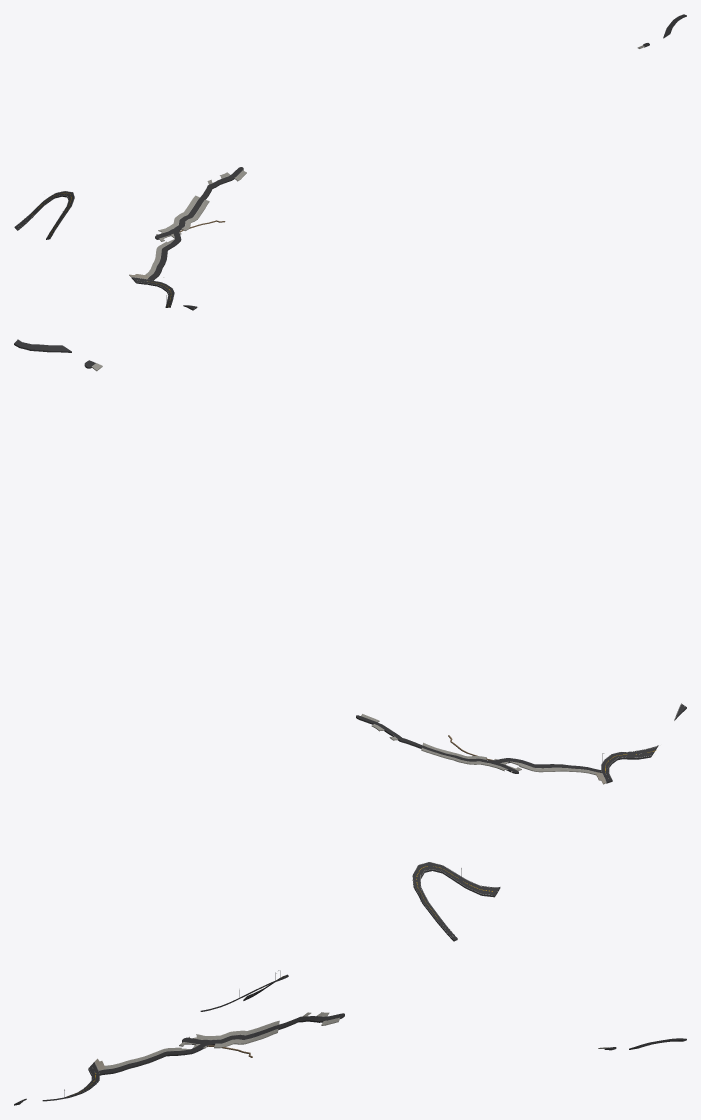
The picture shows the model from 3 angles, top to bottom: view 1: azimuth 30°, elevation 25°; view 2: azimuth 150°, elevation 25°; view 3: azimuth 330°, elevation 25°; orthographic projection. The views are drawn at different scales.
Size of the model in its own units: 588 by 239 by 363.
